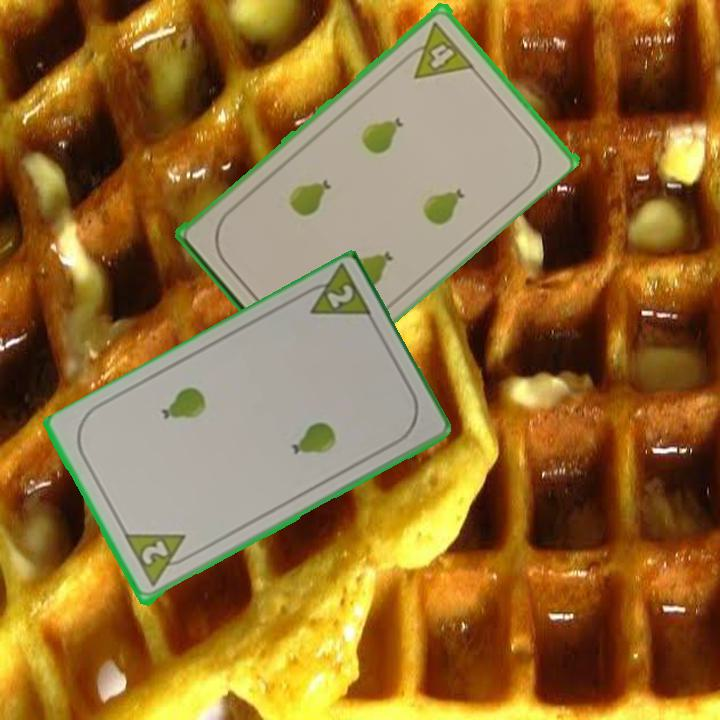2p: (295, 263, 376, 323), (121, 530, 198, 590)
4p: (398, 17, 476, 82)
